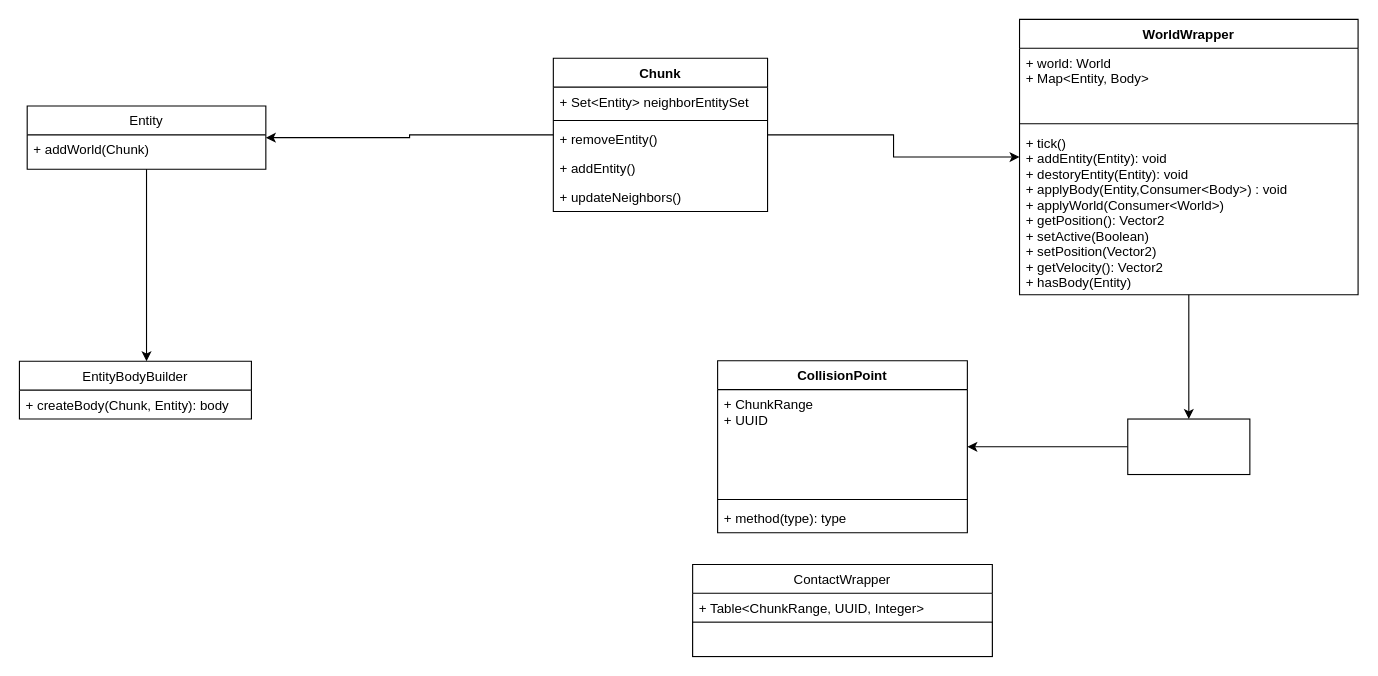
The diagram is 1378 pixels wide and 676 high, and some of its shapes have lost their labels. Each missing label, with the centre of its shape:
"+ getContact(ChunkRange, UUID): Integer" goes at [842,639].
"Body" goes at [1188,446].
